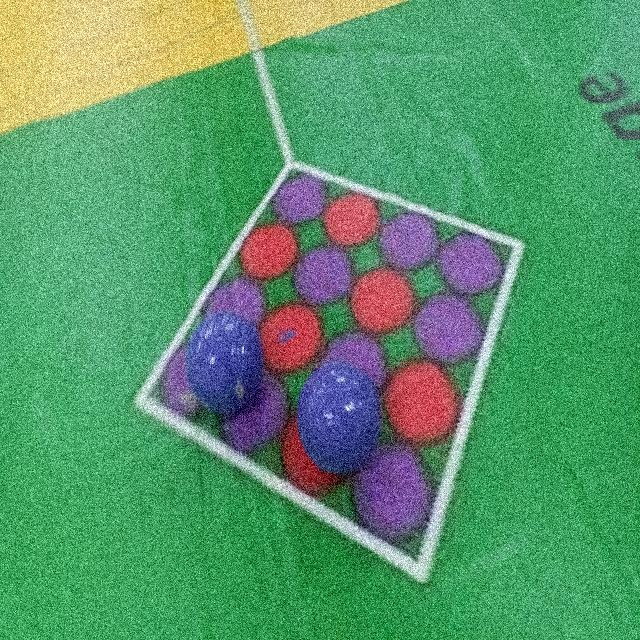purple_ball: (294, 342, 388, 474)
silo: (176, 294, 266, 421)
